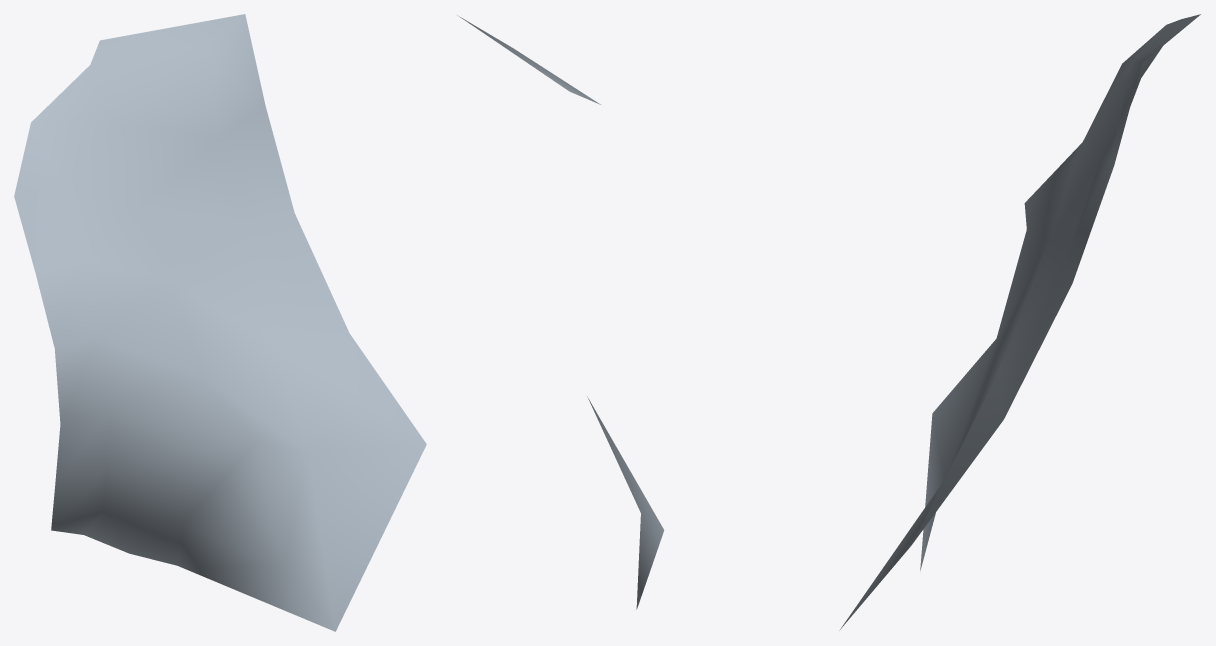
Rendered from anterior-sacro-iliac-ligament-l.glb.
3 views of the same model, side by side, from view 1: azimuth 30°, elevation 25°; view 2: azimuth 150°, elevation 25°; view 3: azimuth 270°, elevation 25° (orthographic). The views are drawn at different scales.
Visible parts, largest first — view 1: Anterior sacro-iliac ligament.l; view 2: Anterior sacro-iliac ligament.l; view 3: Anterior sacro-iliac ligament.l.
Boxes of the visible parts, bbox=[...] form: Anterior sacro-iliac ligament.l: bbox=[14, 14, 426, 631]; Anterior sacro-iliac ligament.l: bbox=[457, 15, 664, 609]; Anterior sacro-iliac ligament.l: bbox=[839, 14, 1200, 630].
Bounding box in the file's own units: 0.0434 × 0.0657 × 0.0365.
